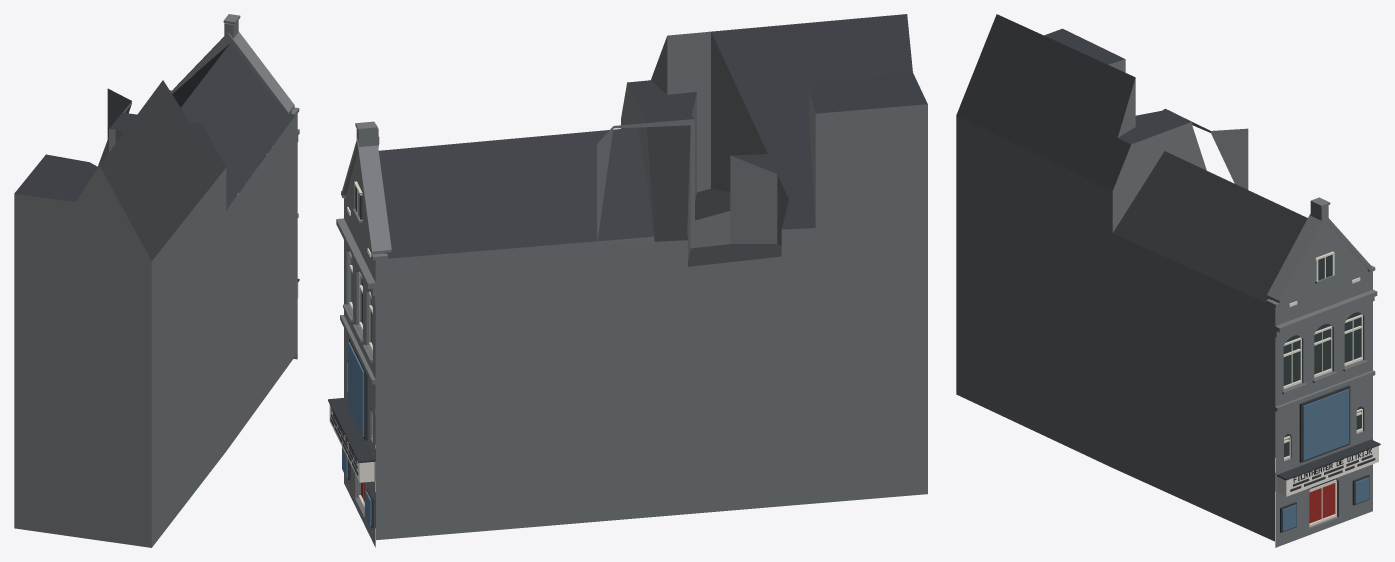
Rendered from de-uitkijk.glb.
The picture shows the model from 3 angles, left to right: view 1: azimuth 30°, elevation 25°; view 2: azimuth 150°, elevation 25°; view 3: azimuth 270°, elevation 25°; orthographic projection. The views are drawn at different scales.
Parts seen in each view (by area): view 1: de-uitkijk; view 2: de-uitkijk; view 3: de-uitkijk.
Boxes of the visible parts, x1,y1,x2,y2 form: de-uitkijk: [14, 14, 299, 547]; de-uitkijk: [328, 14, 927, 547]; de-uitkijk: [956, 14, 1380, 547].
Bounding box in the file's own units: 19.21 × 17.53 × 18.09.
